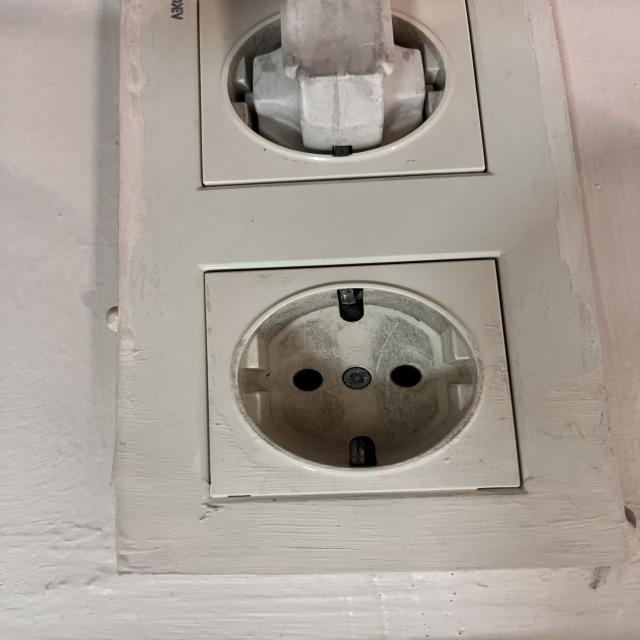pozidriv: (342, 367, 372, 389)
